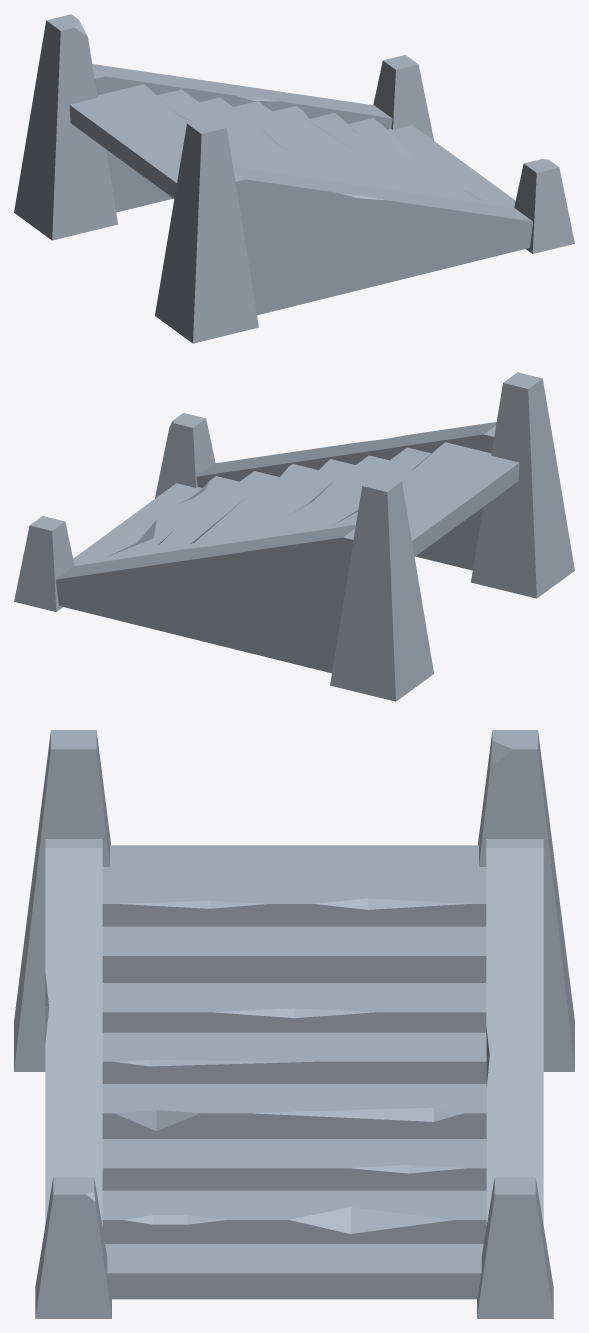
Rendered from stairs_3.fbx.
3 views of the same model, one above another, from view 1: azimuth 30°, elevation 25°; view 2: azimuth 150°, elevation 25°; view 3: azimuth 270°, elevation 25° (orthographic). The views are drawn at different scales.
Parts seen in each view (by area): view 1: stairs_3; view 2: stairs_3; view 3: stairs_3.
Boxes of the visible parts, bbox=[...] form: stairs_3: bbox=[14, 14, 574, 343]; stairs_3: bbox=[14, 372, 574, 701]; stairs_3: bbox=[14, 730, 574, 1318].
Size of the model in its own units: 11.73 by 5.65 by 9.35.
